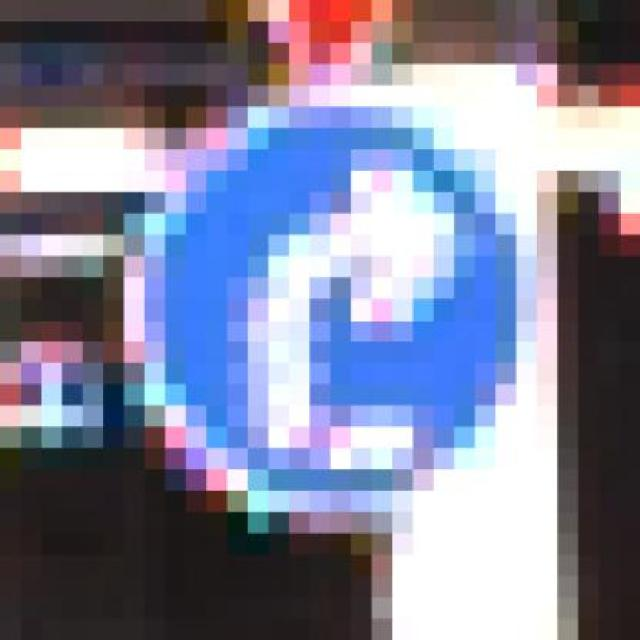Turn right ahead: (103, 106, 557, 534)
